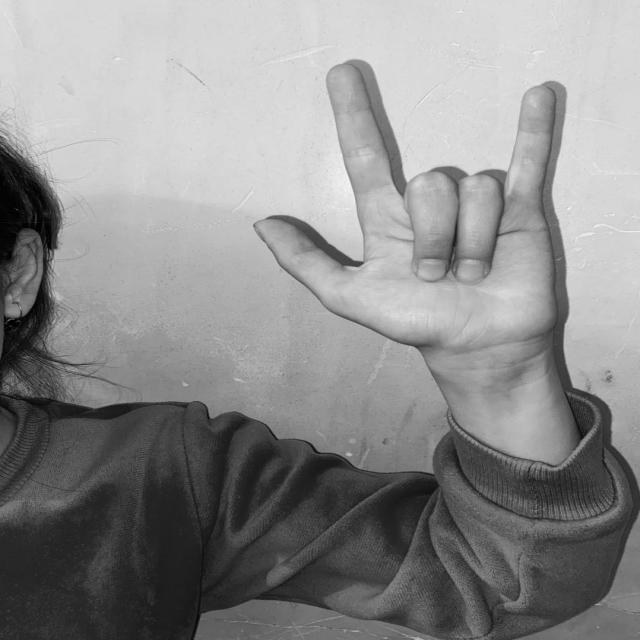i love you: (246, 54, 571, 377)
